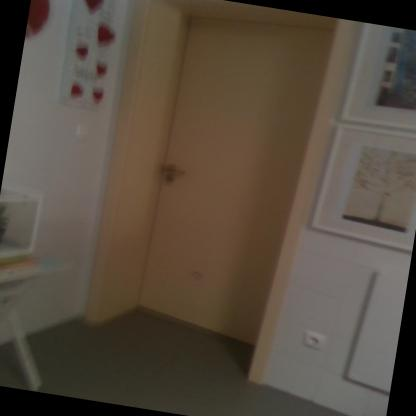closed: (60, 0, 367, 388)
